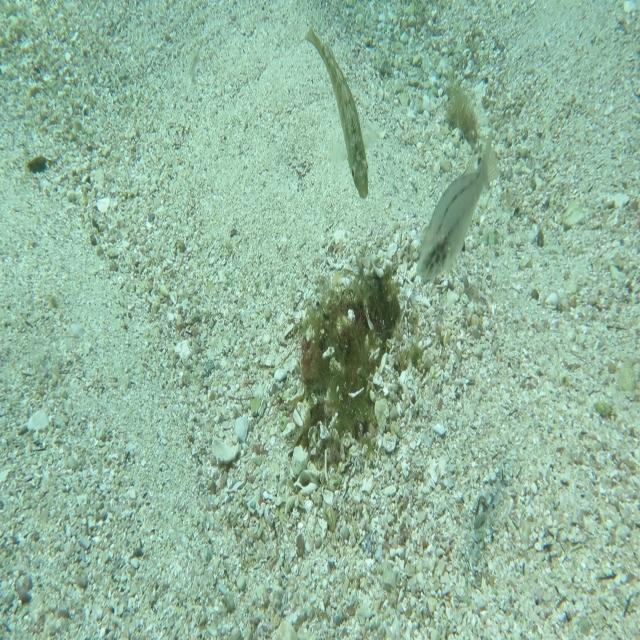CHASE_FLEE: (304, 21, 382, 201)
female: (415, 126, 501, 284)
nest: (274, 241, 419, 478)
